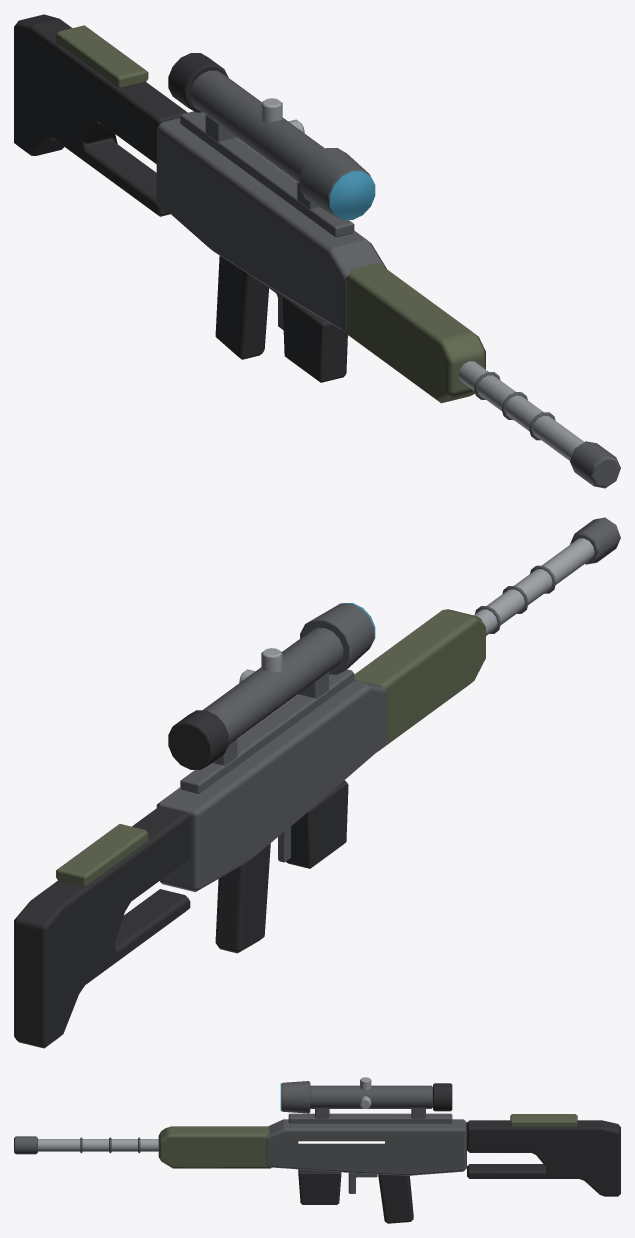
The model's file is SM_SB_Sniper.fbx.
3 renders of one model, top to bottom at view 1: azimuth 30°, elevation 25°; view 2: azimuth 150°, elevation 25°; view 3: azimuth 270°, elevation 25°, orthographic. The views are drawn at different scales.
Parts seen in each view (by area): view 1: SM_SB_Sniper; view 2: SM_SB_Sniper; view 3: SM_SB_Sniper.
Part boxes in pixels (box(x1,y1,x2,y2)): SM_SB_Sniper: box(14, 14, 620, 488); SM_SB_Sniper: box(14, 517, 620, 1048); SM_SB_Sniper: box(14, 1077, 620, 1223).
Bounding box in the file's own units: 6.9 × 126 × 32.65.
